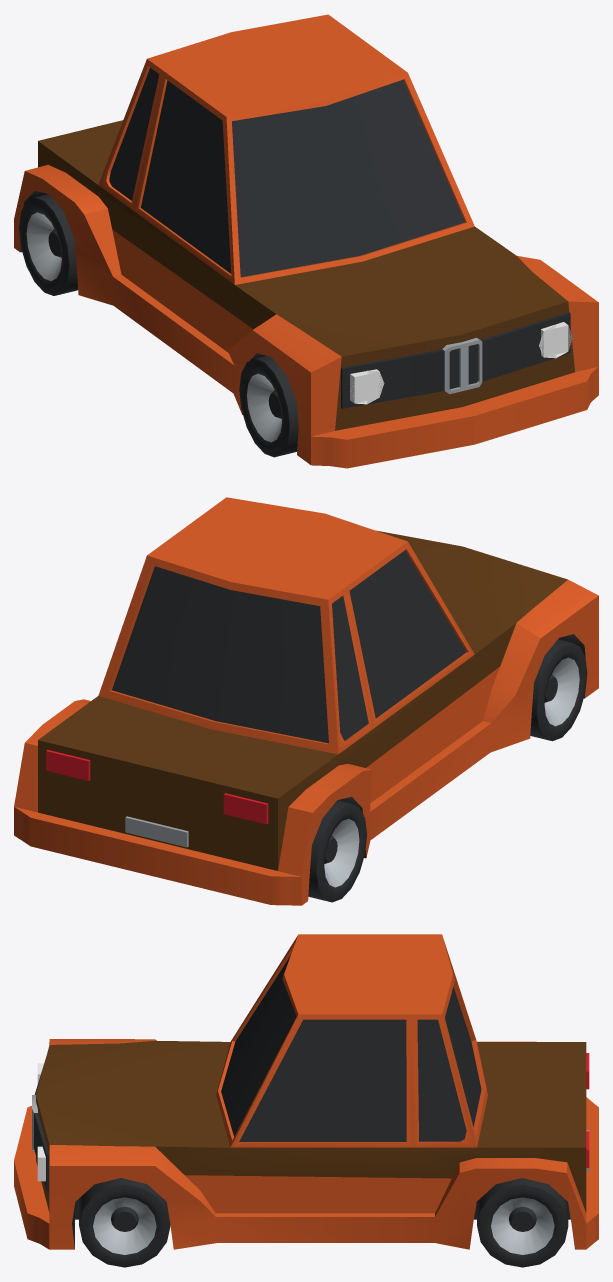
The model's file is Race Royale.fbx_Car6.fbx.
3 views of the same model, one above another, from view 1: azimuth 30°, elevation 25°; view 2: azimuth 150°, elevation 25°; view 3: azimuth 270°, elevation 25° (orthographic). The views are drawn at different scales.
Visible parts, largest first — view 1: Car6, Car6Wheel2, Car6Wheel4; view 2: Car6, Car6Wheel4, Car6Wheel2; view 3: Car6, Car6Wheel3, Car6Wheel1.
Part boxes in pixels (x1,y1,x2,y2): Car6: (14,14,598,468); Car6Wheel2: (239,355,298,457); Car6Wheel4: (19,194,77,295); Car6: (14,497,598,905); Car6Wheel4: (308,800,366,902); Car6Wheel2: (530,639,587,741); Car6: (14,934,598,1249); Car6Wheel3: (477,1178,568,1267); Car6Wheel1: (79,1178,170,1267).
Size of the model in its own units: 299 by 240 by 558.
